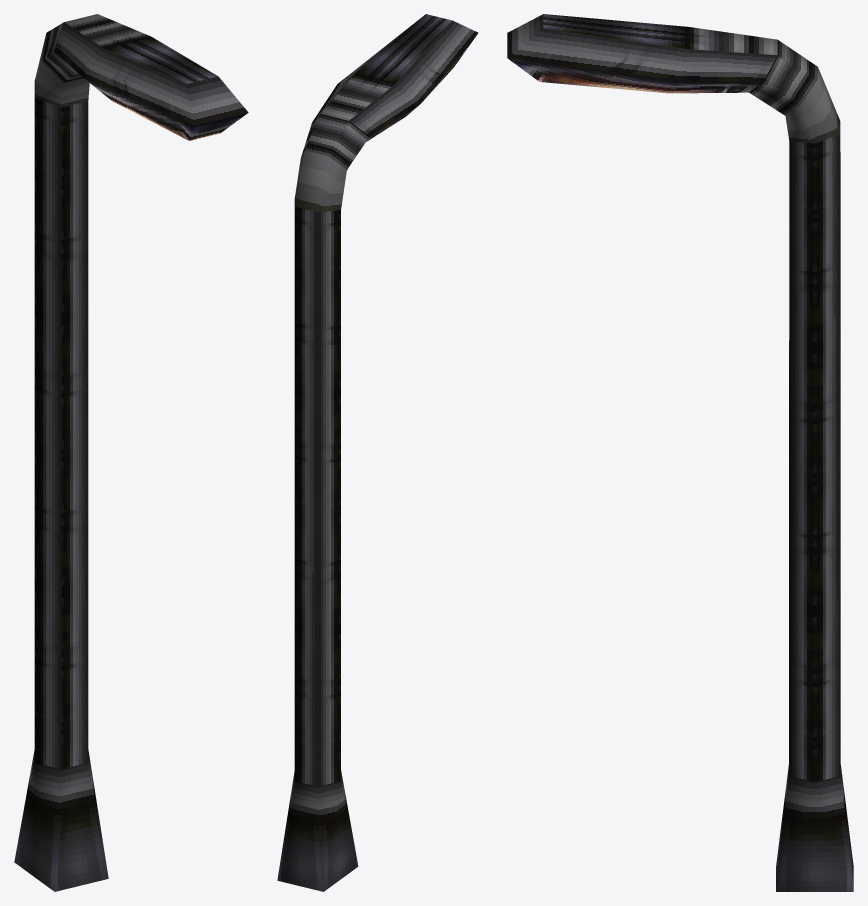
The model's file is Street_Light_Pole.fbx.
The picture shows the model from 3 angles, left to right: view 1: azimuth 30°, elevation 25°; view 2: azimuth 150°, elevation 25°; view 3: azimuth 270°, elevation 25°; orthographic projection. The views are drawn at different scales.
Parts seen in each view (by area): view 1: Street_Light_Pole; view 2: Street_Light_Pole; view 3: Street_Light_Pole.
Boxes of the visible parts, x1,y1,x2,y2 form: Street_Light_Pole: (14, 14, 248, 891); Street_Light_Pole: (277, 14, 478, 891); Street_Light_Pole: (507, 14, 853, 891).
Size of the model in its own units: 45.28 by 400 by 146.
